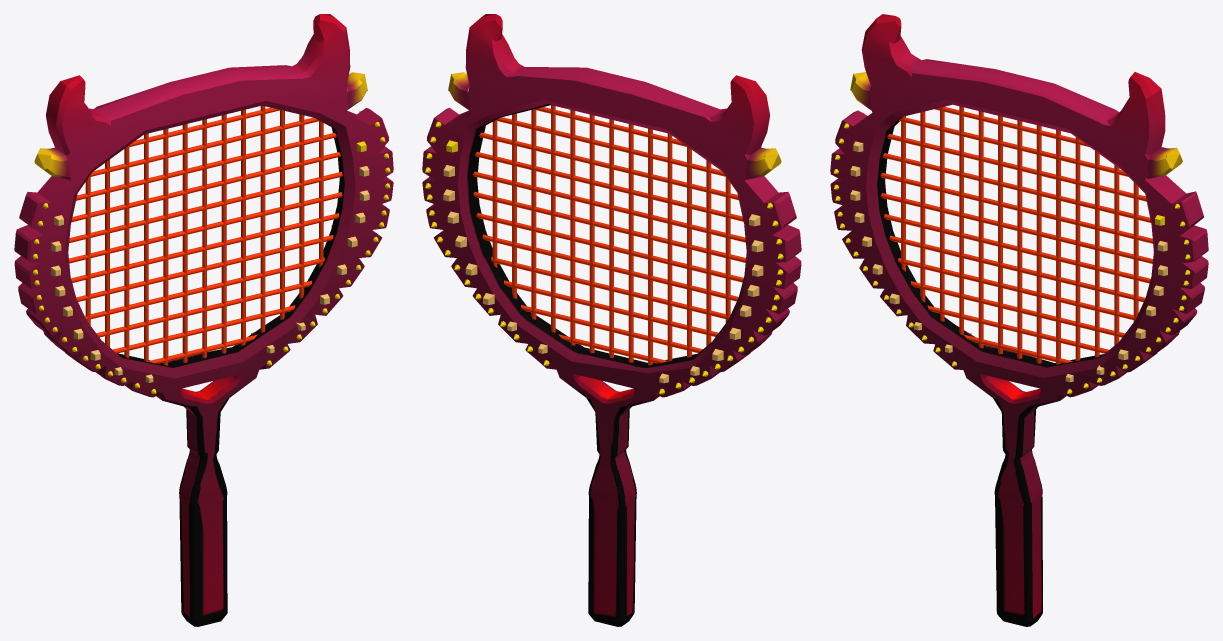
File: RAQUETTE +FORT.fbx
The picture shows the model from 3 angles, left to right: view 1: azimuth 30°, elevation 25°; view 2: azimuth 150°, elevation 25°; view 3: azimuth 330°, elevation 25°; orthographic projection.
Visible parts, largest first — view 1: pCone23; view 2: pCone23; view 3: pCone23.
Part boxes in pixels (left/top/right/bottom): pCone23: left=14, top=14, right=393, bottom=626; pCone23: left=422, top=14, right=801, bottom=626; pCone23: left=830, top=14, right=1208, bottom=626.
Bounding box in the file's own units: 0.6607 × 0.995 × 0.0699.
Materials: 1 (1 with a texture image).
